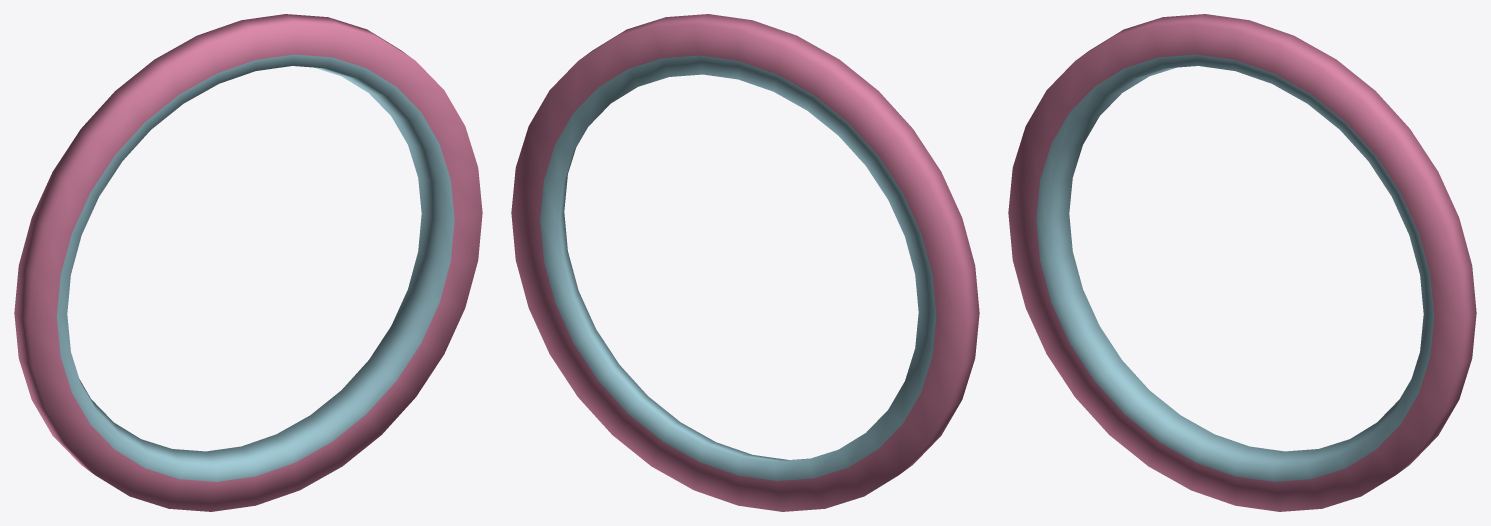
Rendered from titlerings_Awaodori.fbx.
The picture shows the model from 3 angles, left to right: view 1: azimuth 30°, elevation 25°; view 2: azimuth 150°, elevation 25°; view 3: azimuth 330°, elevation 25°; orthographic projection.
Visible parts, largest first — view 1: Awaodori; view 2: Awaodori; view 3: Awaodori.
Boxes of the visible parts, x1,y1,x2,y2 form: Awaodori: (14,14,482,511); Awaodori: (511,14,979,511); Awaodori: (1008,14,1476,511).
Size of the model in its own units: 219 by 219 by 12.06.
